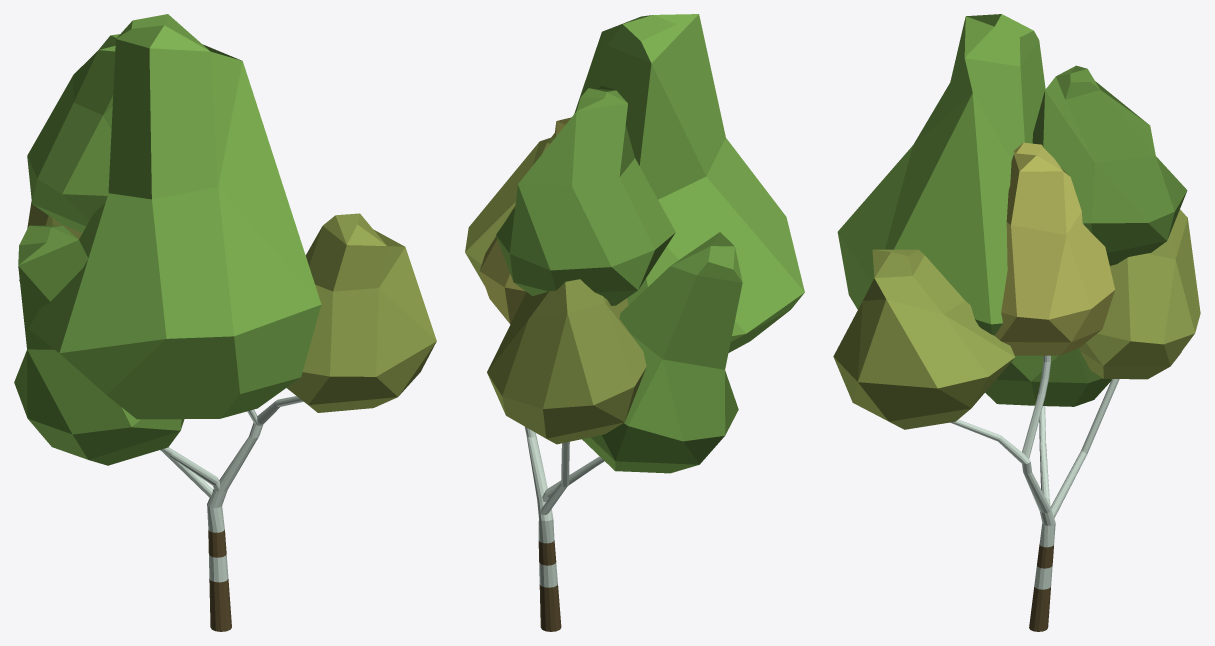
Rendered from Tree.fbx.
The picture shows the model from 3 angles, left to right: view 1: azimuth 30°, elevation 25°; view 2: azimuth 150°, elevation 25°; view 3: azimuth 270°, elevation 25°; orthographic projection. The views are drawn at different scales.
Parts seen in each view (by area): view 1: Cone.001; view 2: Cone.001; view 3: Cone.001.
Part boxes in pixels (left/top/right/bottom): Cone.001: left=14, top=14, right=436, bottom=631; Cone.001: left=465, top=14, right=804, bottom=631; Cone.001: left=833, top=14, right=1200, bottom=631.
Bounding box in the file's own units: 480 × 825 × 485.
